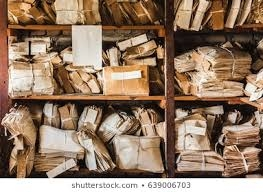paper: (187, 42, 261, 80), (110, 131, 166, 175), (36, 122, 92, 159), (98, 62, 152, 99), (182, 71, 246, 101), (171, 112, 216, 151), (98, 108, 139, 150), (172, 147, 228, 174), (220, 141, 262, 177), (131, 101, 165, 144), (28, 150, 85, 173), (218, 121, 263, 147), (75, 102, 102, 140), (55, 101, 79, 134), (43, 102, 60, 133)
